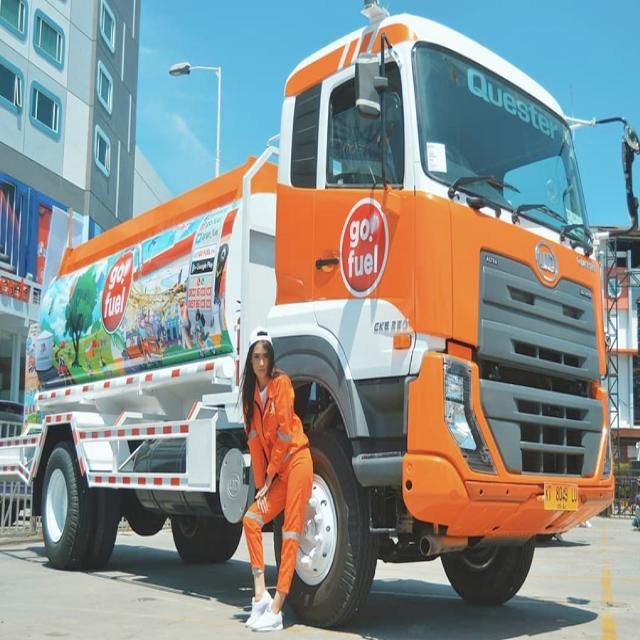truck: (17, 13, 634, 606)
